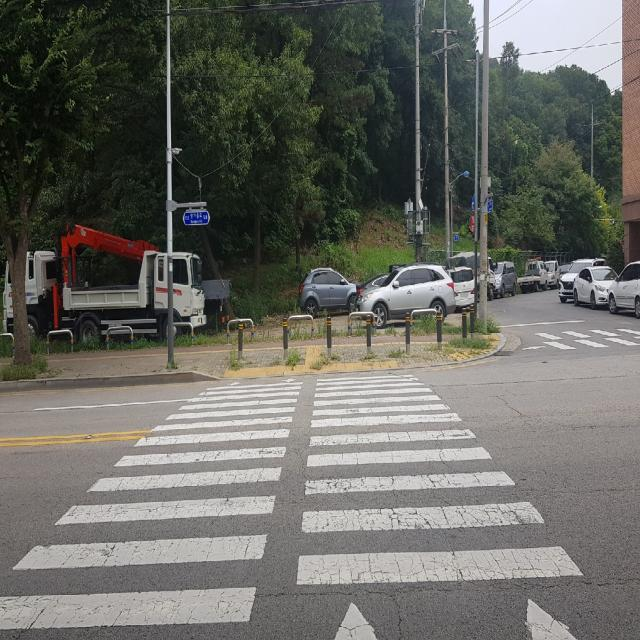횡단보도: (0, 373, 585, 639), (500, 325, 640, 351)
